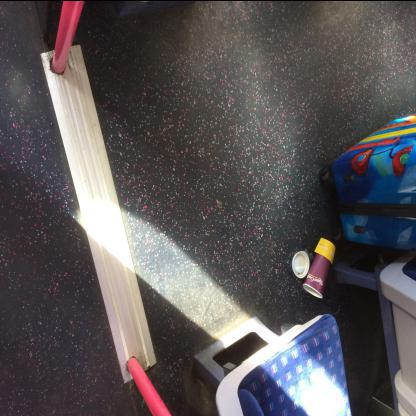karton: (303, 237, 337, 299)
plastik: (293, 251, 311, 279)
